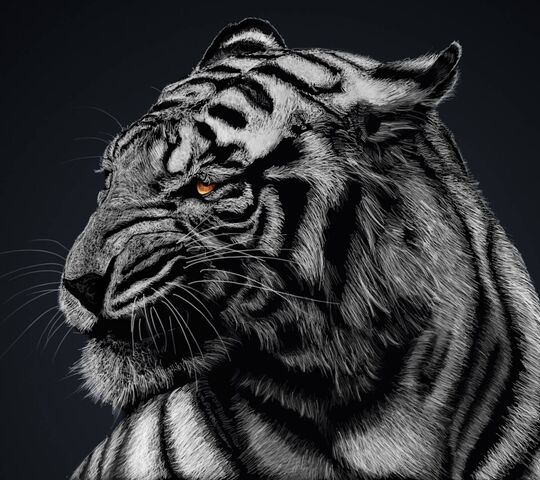Tigrew: (34, 19, 509, 411)
